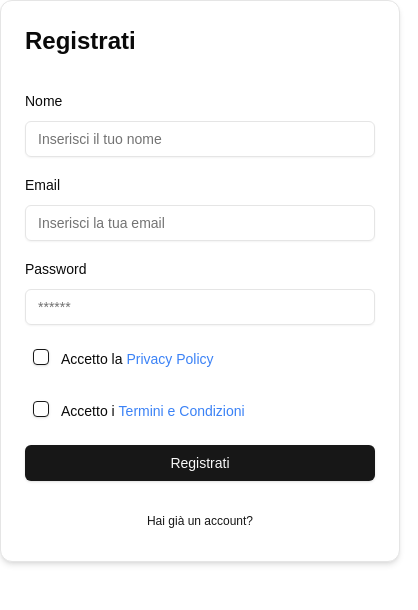
Test: RegisterForm › TC_1_2_RF_1: email troppo lunga
Type "verylongemailaddressexceedingfiftycharacters@example.com" into the field labelled "Email" at coordinates (200, 223), box [25,205,375,241]
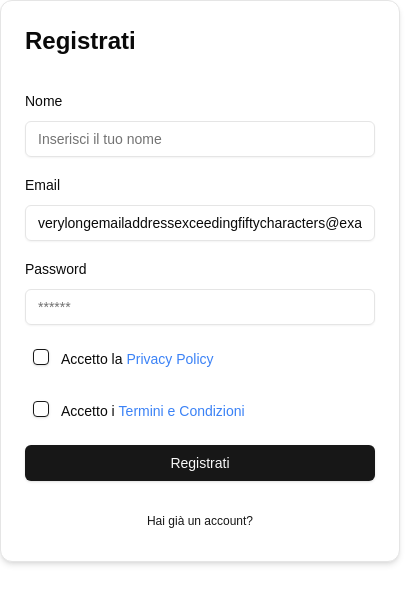
Type "SecurePass1" into the password field labelled "Password" at coordinates (200, 307), box [25,289,375,325]
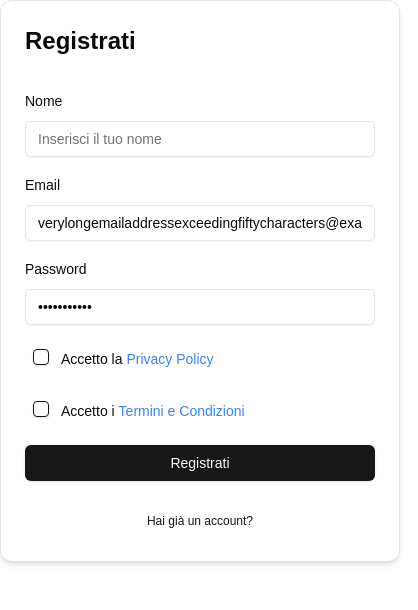
Type "Mario Rossi" into the field labelled "Nome" at coordinates (200, 139), box [25,121,375,157]
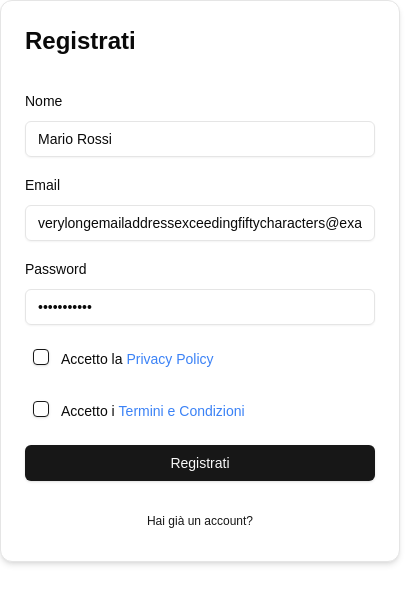
Click the checkbox named "Privacy Policy" next to "Accetto la" at coordinates (41, 357), box [33,349,49,365]
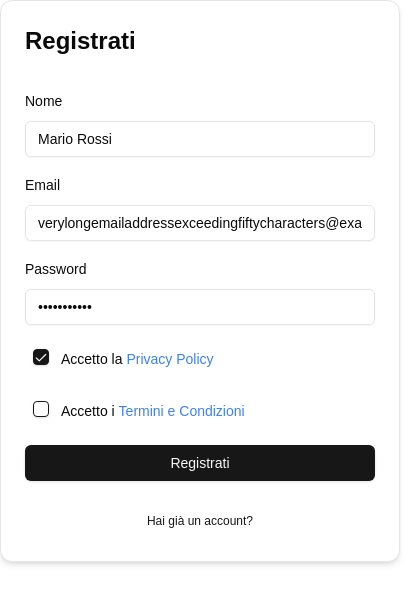
Click the checkbox named "Termini e Condizioni" next to "Accetto i" at coordinates (41, 409), box [33,401,49,417]
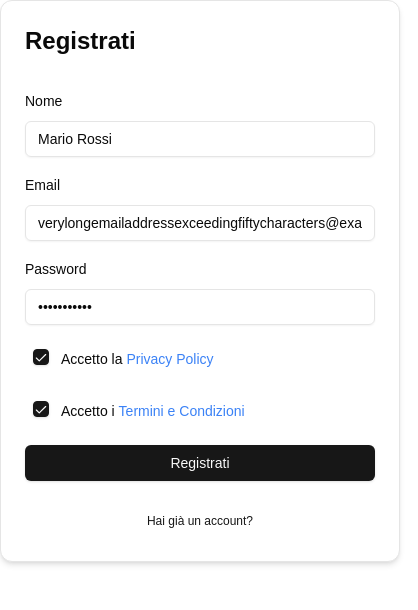
Click the button "Registrati" at coordinates (200, 463), box [25,445,375,481]
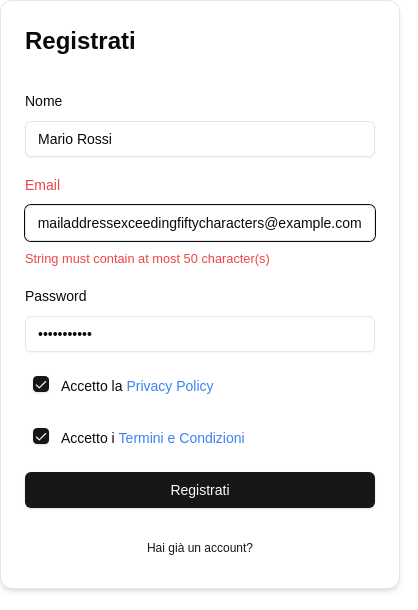
Now the text "String must contain at most 50 character(s)" is shown, box [25,251,270,266]
